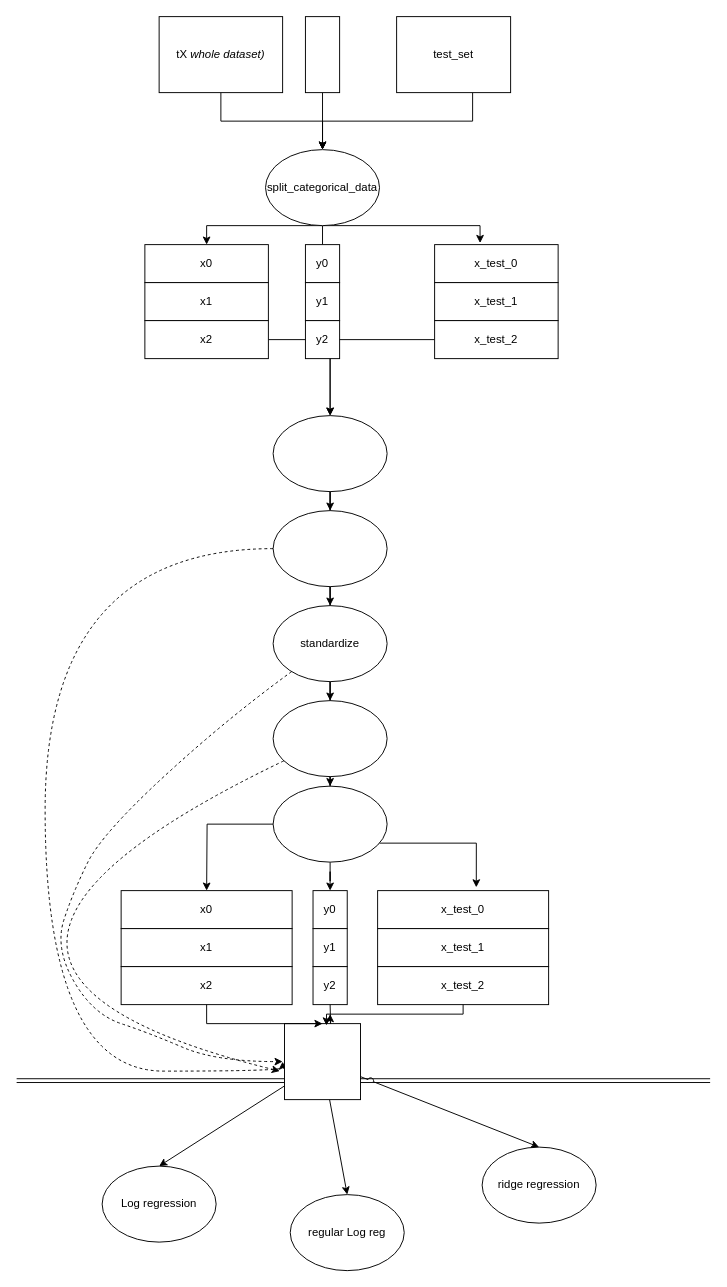
The diagram is 727 pixels wide and 1287 high, and some of its shapes have lost their labels. The centre of each missing label's shape, as x and y in pixels:
"clean -999" belongs at point 329,548.
"Clean Dataset" belongs at point 322,1061.
"clean_variance" belongs at point 329,453.
"feature_exp" belongs at point 329,823.
"PCA" belongs at point 329,738.
"ty" belongs at point 322,54.
